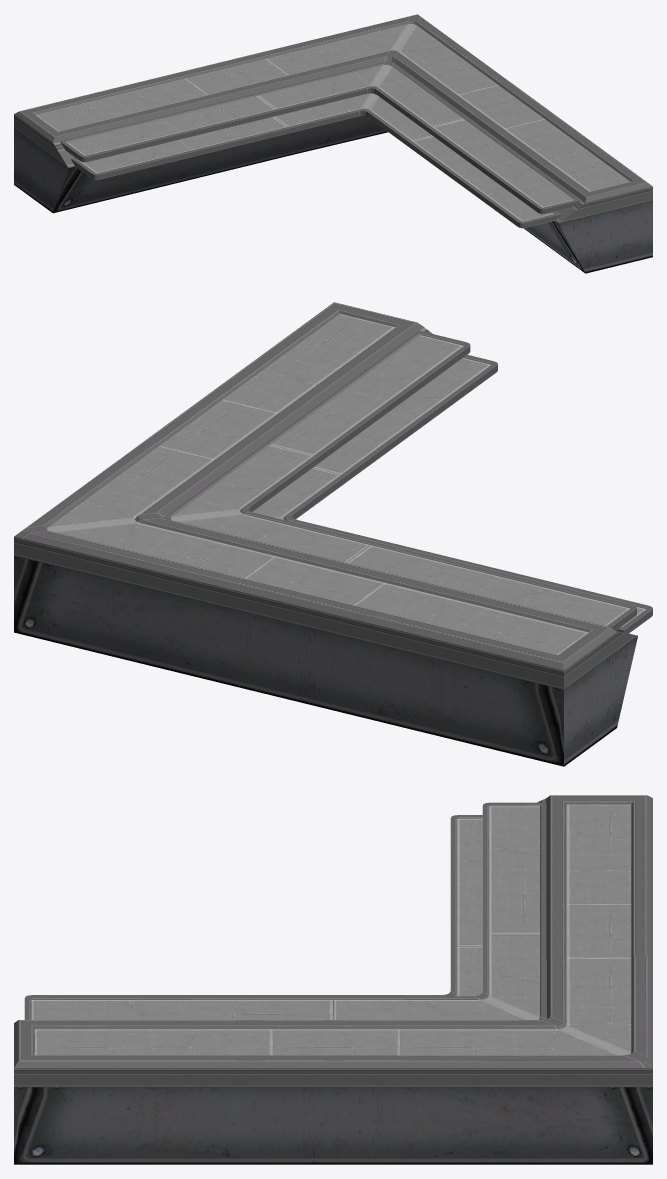
Rendered from Pres_Floor_1x4_StairBendDown.FBX.
The picture shows the model from 3 angles, top to bottom: view 1: azimuth 30°, elevation 25°; view 2: azimuth 150°, elevation 25°; view 3: azimuth 270°, elevation 25°; orthographic projection. The views are drawn at different scales.
Visible parts, largest first — view 1: Pres_Floor_1x4_StairBendDown; view 2: Pres_Floor_1x4_StairBendDown; view 3: Pres_Floor_1x4_StairBendDown.
Part boxes in pixels (left/top/right/bottom): Pres_Floor_1x4_StairBendDown: left=14, top=14, right=652, bottom=273; Pres_Floor_1x4_StairBendDown: left=14, top=302, right=652, bottom=766; Pres_Floor_1x4_StairBendDown: left=14, top=795, right=652, bottom=1164.
Size of the model in its own units: 6 by 1.05 by 6.
